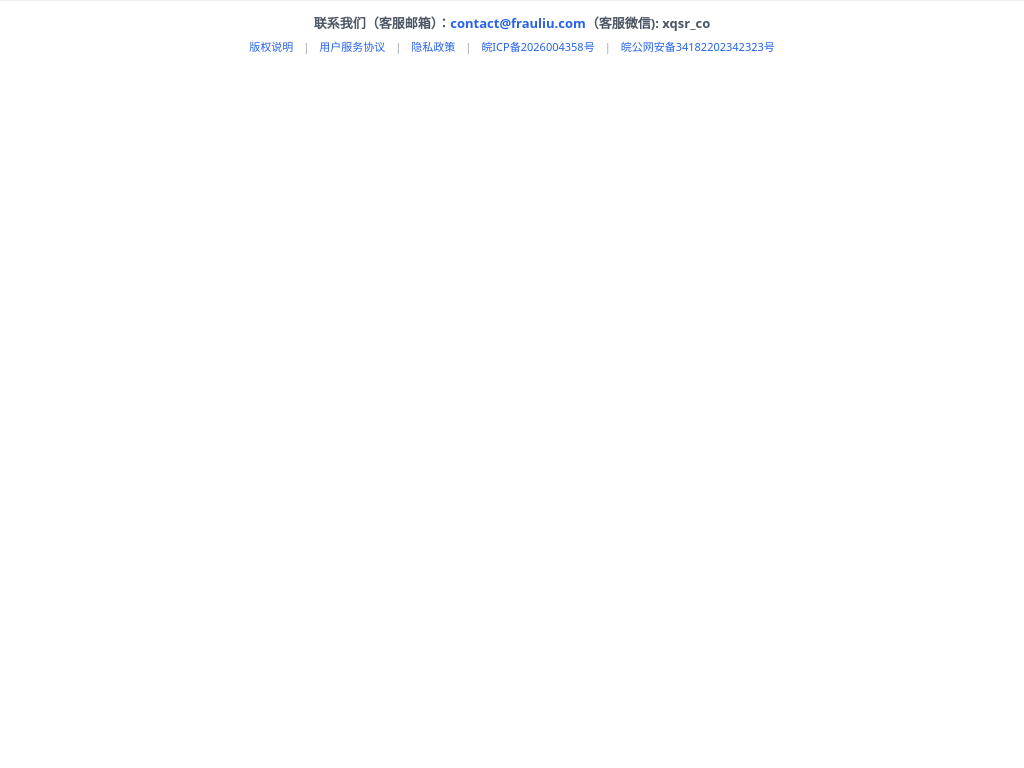
Test: SiteFooter legal documents › opens each legal document from its own footer entry without removing existing links
Check: the button "版权说明" is shown, box [249, 38, 293, 54]
Check: the link "皖ICP备2026004358号" is shown, box [481, 38, 595, 54]
Click the button "用户服务协议" at (352,46), box [319, 38, 385, 54]
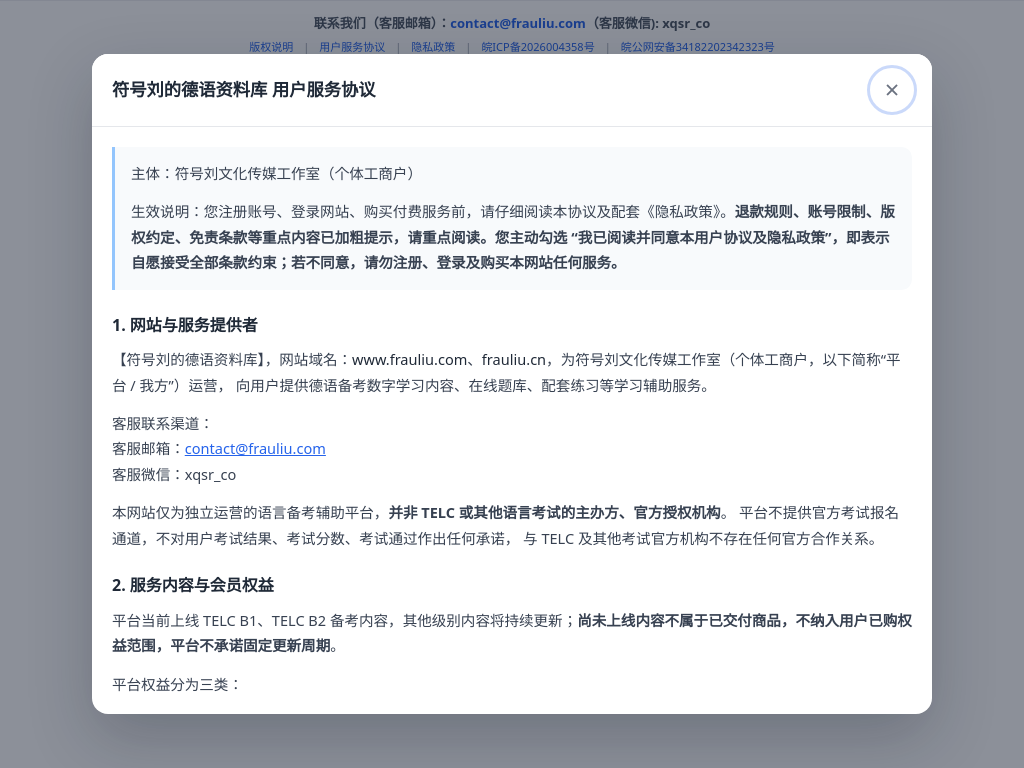
Check: the dialog "符号刘的德语资料库 用户服务协议" is shown
Check: the number of dialogs is 1
Click the button named "关闭用户服务协议" at (892,90), box [872, 70, 912, 110]
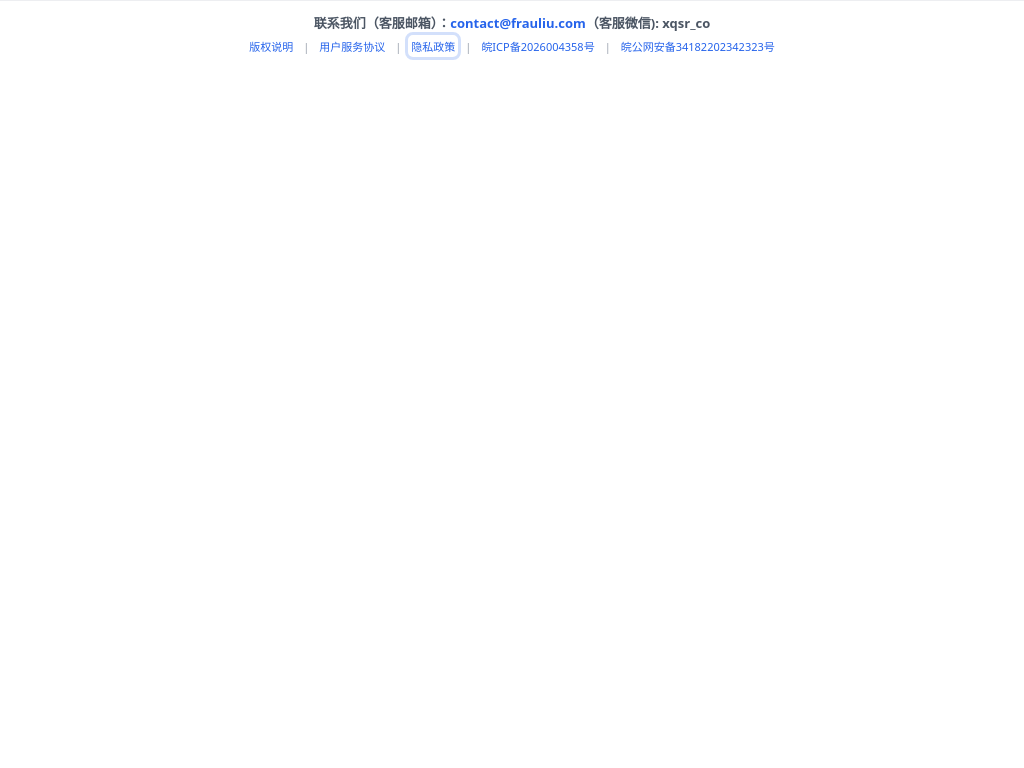
Check: the dialog is gone
Click the button "隐私政策" at (433,46), box [411, 38, 455, 54]
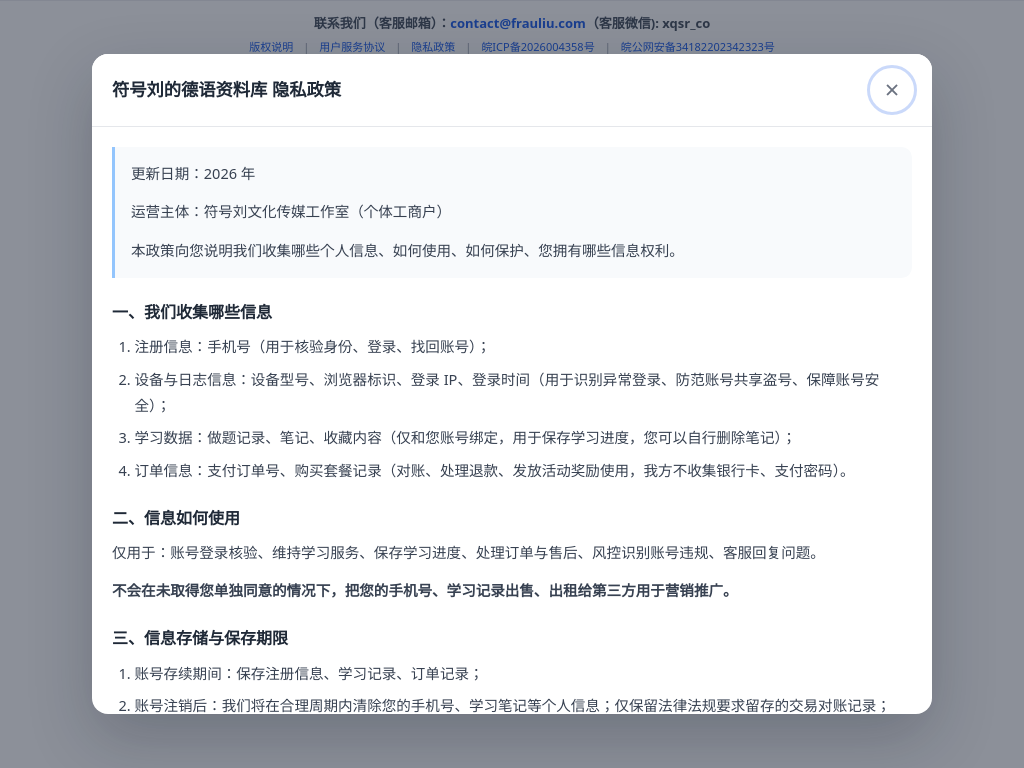
Check: the dialog "符号刘的德语资料库 隐私政策" is shown
Check: the number of dialogs is 1
Press Escape
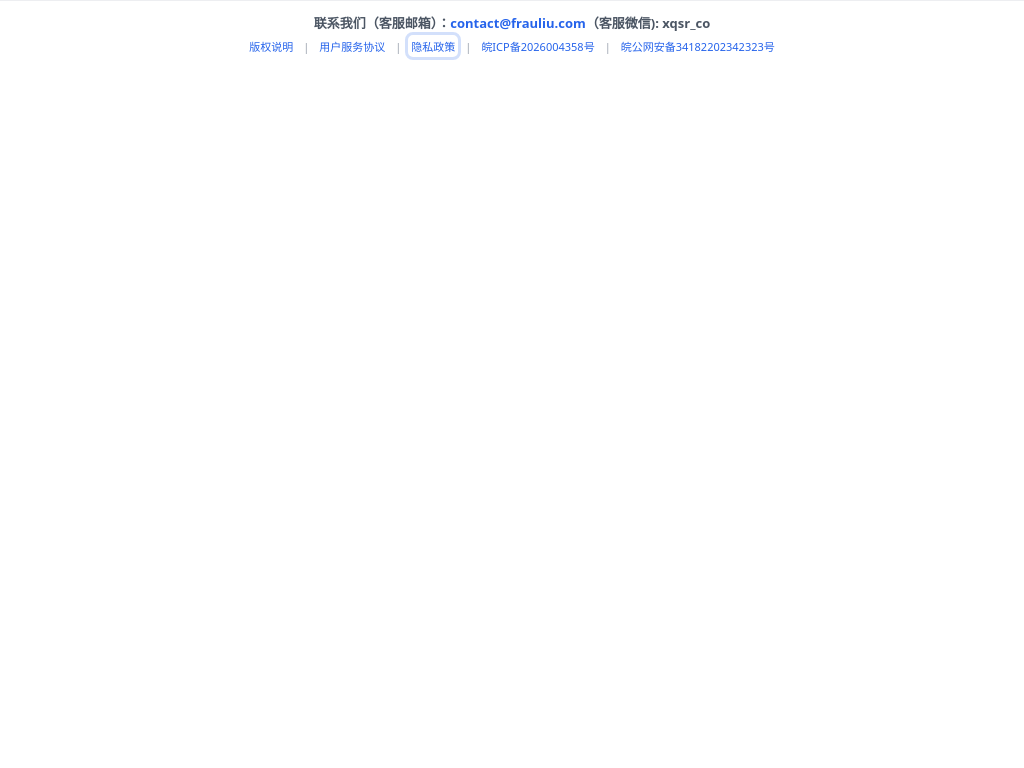
Check: the dialog is gone
